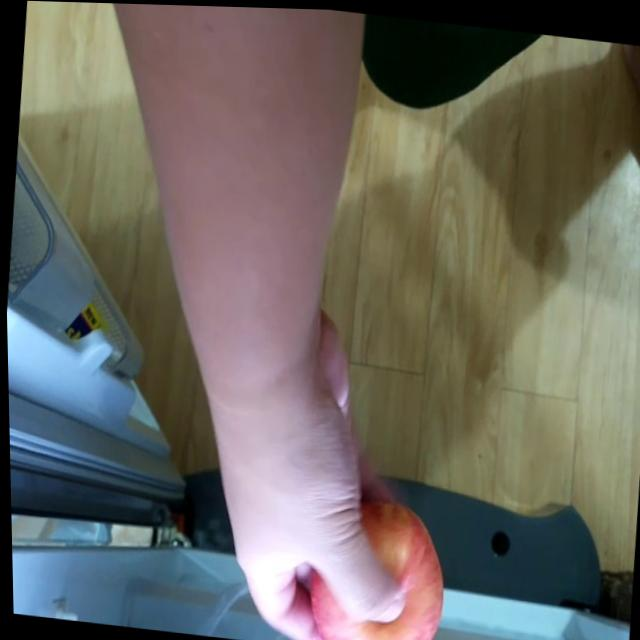apple: (296, 490, 451, 640)
